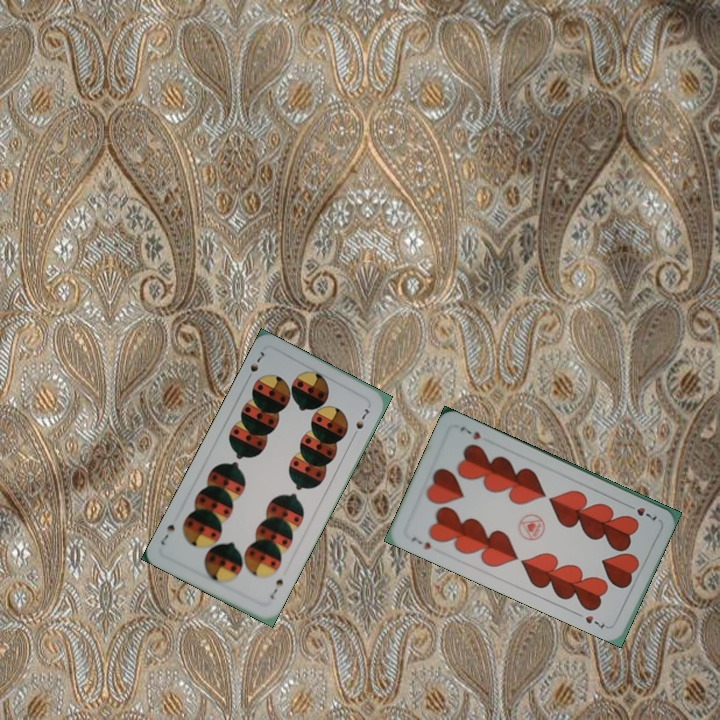H7: (623, 500, 660, 523), (407, 533, 433, 552)
S7: (242, 348, 268, 384), (266, 575, 286, 602)
